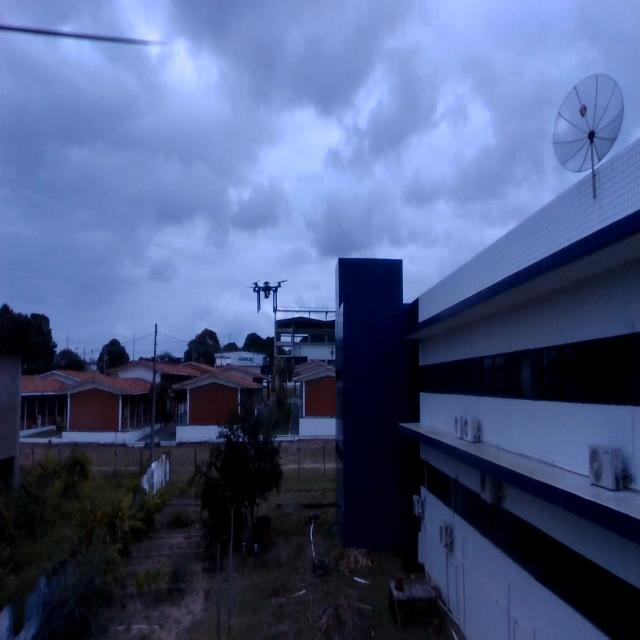-uav-: (244, 274, 298, 329)
